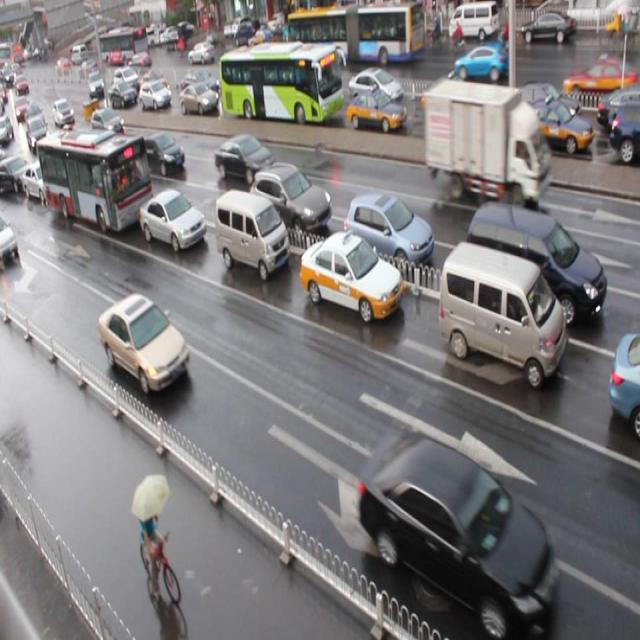bus: (423, 78, 550, 211)
car: (358, 424, 556, 631), (299, 228, 402, 322), (98, 293, 191, 396), (343, 195, 434, 279), (250, 161, 330, 241), (514, 99, 593, 158), (138, 187, 206, 252), (425, 92, 496, 143), (608, 331, 640, 436), (504, 83, 578, 128), (215, 135, 274, 185), (421, 76, 486, 121), (345, 86, 406, 133), (347, 67, 402, 108), (594, 92, 640, 135), (140, 133, 187, 175), (608, 99, 640, 160), (21, 158, 60, 203), (0, 153, 32, 192), (180, 83, 219, 114), (233, 69, 268, 103), (183, 68, 222, 97), (92, 107, 124, 142), (139, 80, 172, 112), (114, 65, 141, 94), (110, 81, 136, 110), (139, 68, 165, 93), (53, 99, 75, 127)
truck: (465, 198, 606, 332), (438, 240, 565, 388), (213, 187, 289, 280)
van: (37, 126, 154, 235), (216, 42, 339, 124)
